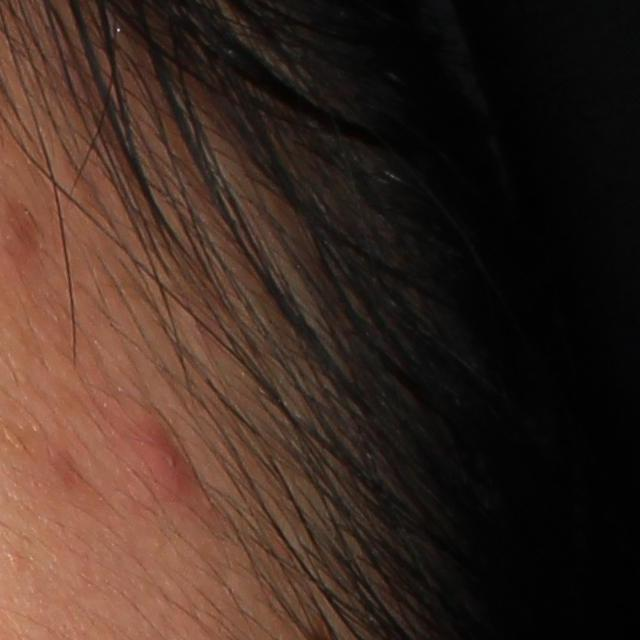papule: (116, 393, 188, 491)
